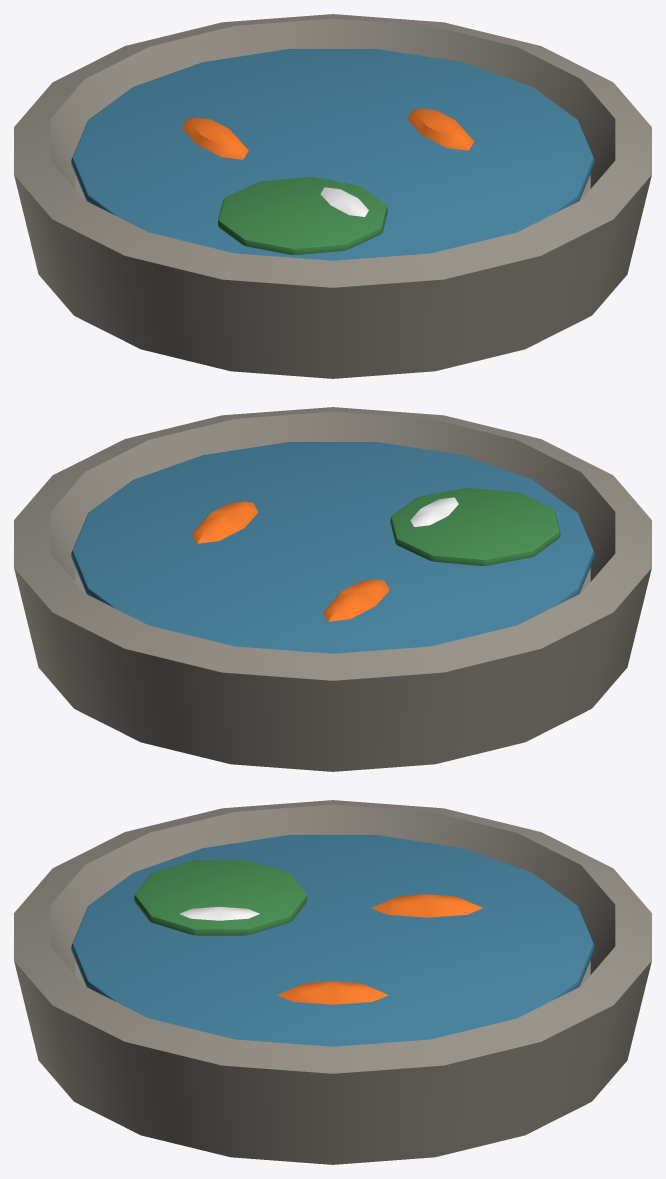
File: MidZen.fbx
3 views of the same model, one above another, from view 1: azimuth 30°, elevation 25°; view 2: azimuth 150°, elevation 25°; view 3: azimuth 270°, elevation 25° (orthographic).
Visible parts, largest first — view 1: MidZen; view 2: MidZen; view 3: MidZen.
Boxes of the visible parts, box(x1,y1,x2,y2) form: MidZen: box(14, 14, 651, 378); MidZen: box(14, 407, 651, 771); MidZen: box(14, 800, 651, 1164).
Size of the model in its own units: 520 by 100 by 512.
